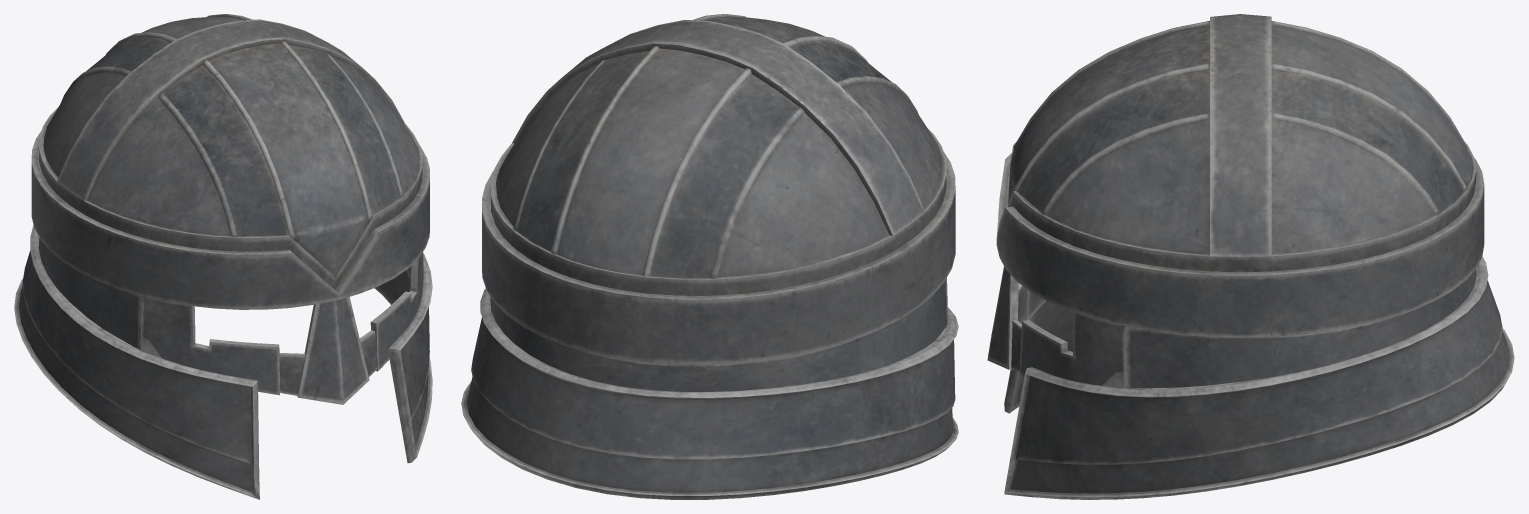
File: sk_dwarf_erebor_helmet_plate_light_d.fbx
3 views of the same model, side by side, from view 1: azimuth 30°, elevation 25°; view 2: azimuth 150°, elevation 25°; view 3: azimuth 270°, elevation 25° (orthographic). The views are drawn at different scales.
Parts seen in each view (by area): view 1: sk_dwarf_erebor_helmet_plate_light_d; view 2: sk_dwarf_erebor_helmet_plate_light_d; view 3: sk_dwarf_erebor_helmet_plate_light_d.
Part boxes in pixels (x1,y1,x2,y2): sk_dwarf_erebor_helmet_plate_light_d: (14, 14, 432, 499); sk_dwarf_erebor_helmet_plate_light_d: (461, 14, 958, 499); sk_dwarf_erebor_helmet_plate_light_d: (987, 14, 1514, 499).
Bounding box in the file's own units: 0.2646 × 0.3095 × 0.2729.
Materials: 1 (1 with a texture image).
